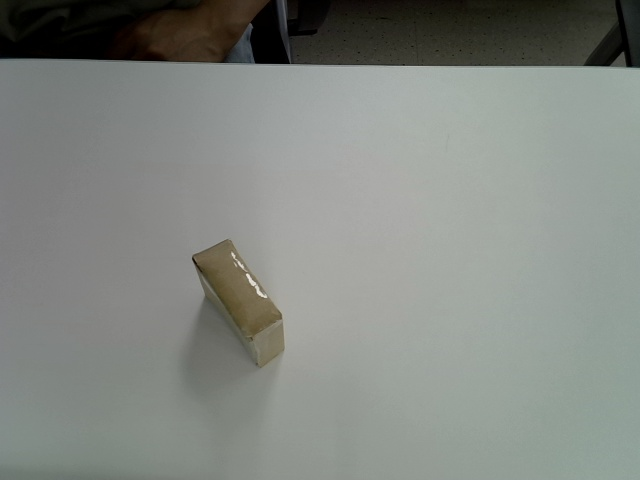normal: (192, 238, 284, 368)
